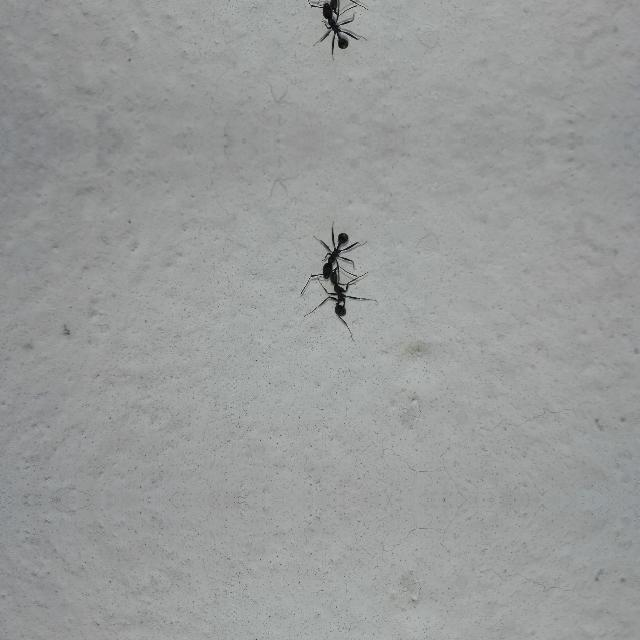Apheanogaster: (306, 269, 376, 325), (306, 224, 366, 280), (306, 0, 366, 56)
